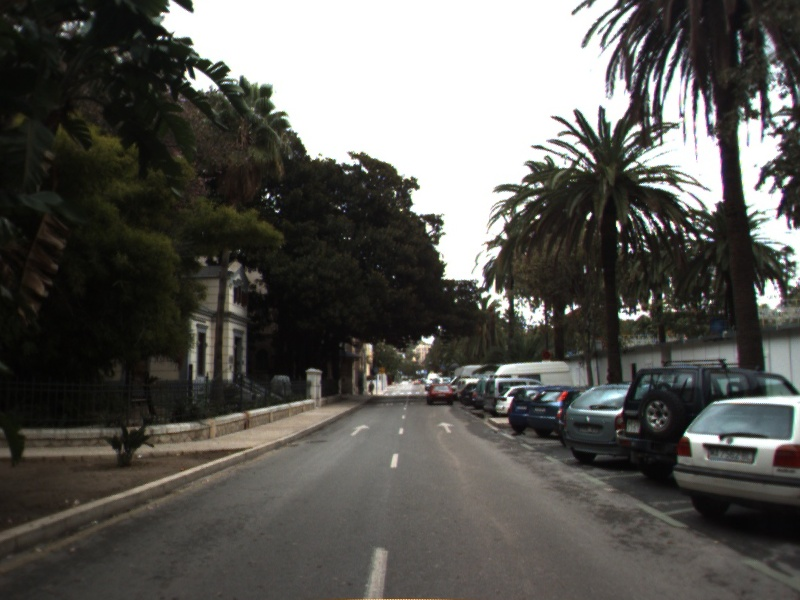STRAIGHT: (434, 419, 458, 435), (348, 423, 372, 438)
